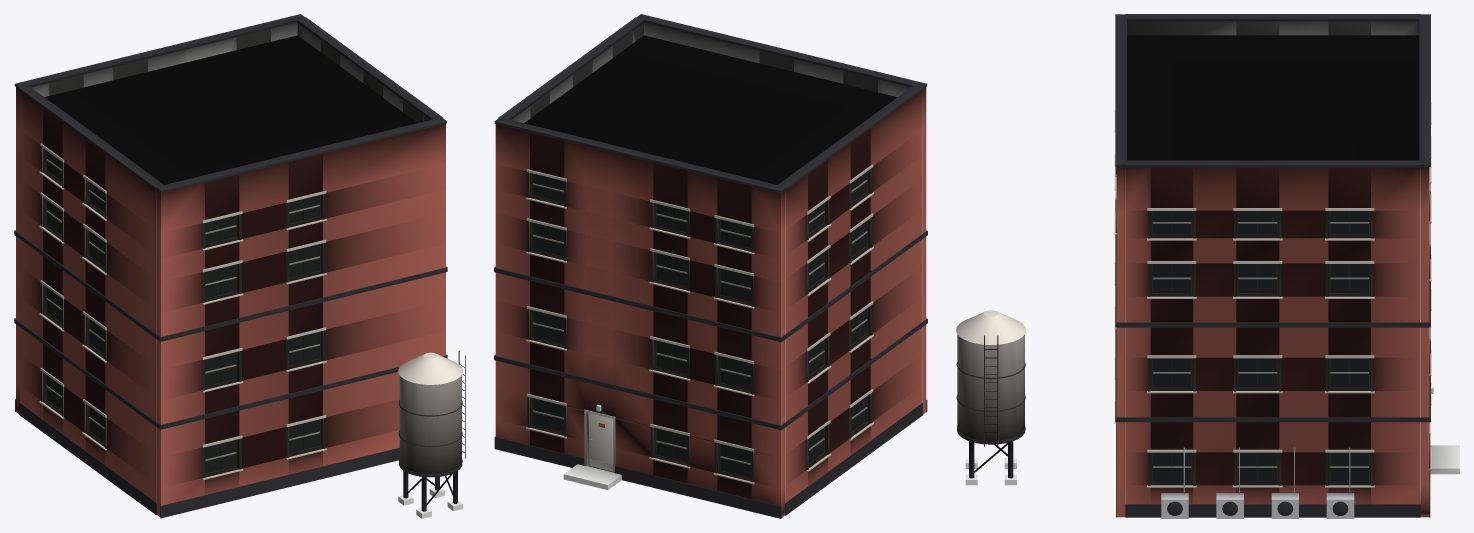
Rendered from factory3.glb.
The picture shows the model from 3 angles, left to right: view 1: azimuth 30°, elevation 25°; view 2: azimuth 150°, elevation 25°; view 3: azimuth 270°, elevation 25°; orthographic projection. The views are drawn at different scales.
Visible parts, largest first — view 1: PART; view 2: PART, DOOR_main; view 3: PART.
Boxes of the visible parts, box(x1,y1,x2,y2) form: PART: box(14, 14, 465, 518); PART: box(494, 14, 927, 518); DOOR_main: box(589, 413, 613, 471); PART: box(956, 14, 1459, 518).
Bounding box in the file's own units: 12.21 × 12.76 × 16.45.
